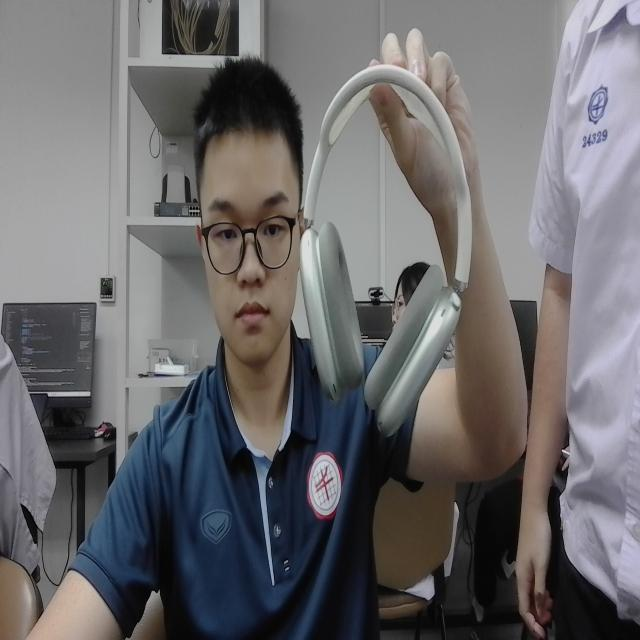airpods max: (291, 32, 477, 447)
